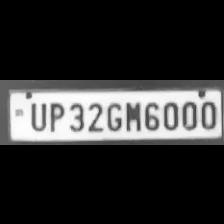0: (160, 98, 180, 130), (178, 97, 198, 128), (198, 98, 218, 128)
2: (84, 98, 104, 132)
3: (65, 99, 85, 131)
6: (140, 98, 160, 130)
G: (104, 99, 122, 131)
M: (122, 99, 142, 131)
P: (46, 98, 64, 132)
U: (26, 98, 46, 130)
